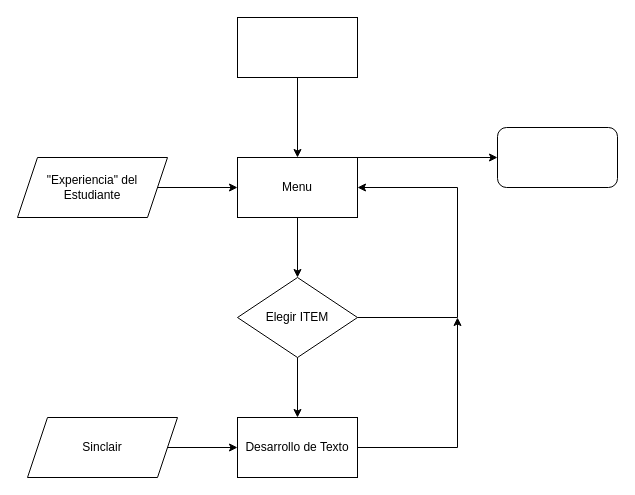
This 635x495 diagram has some shape labels left out. The centre of each missing label's shape, as x and y in pixels:
"Fin" goes at [557,157].
"Inicio Aplicacion" goes at [297,47].
